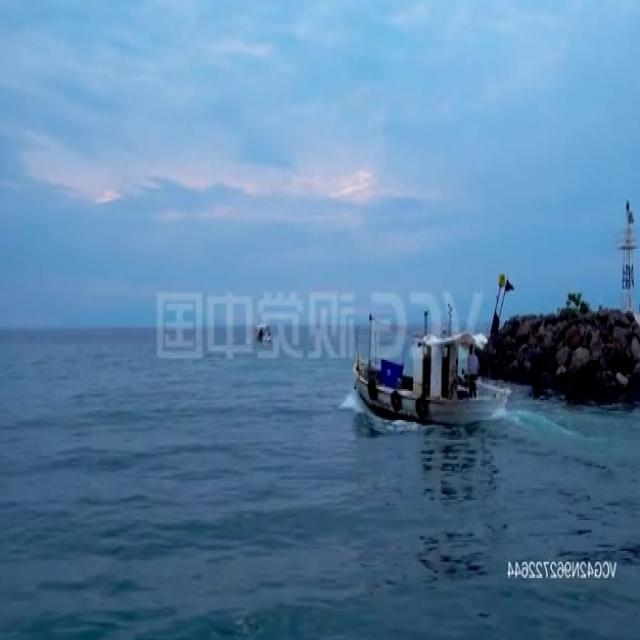houseboat: (350, 295, 517, 426), (256, 312, 274, 348)
